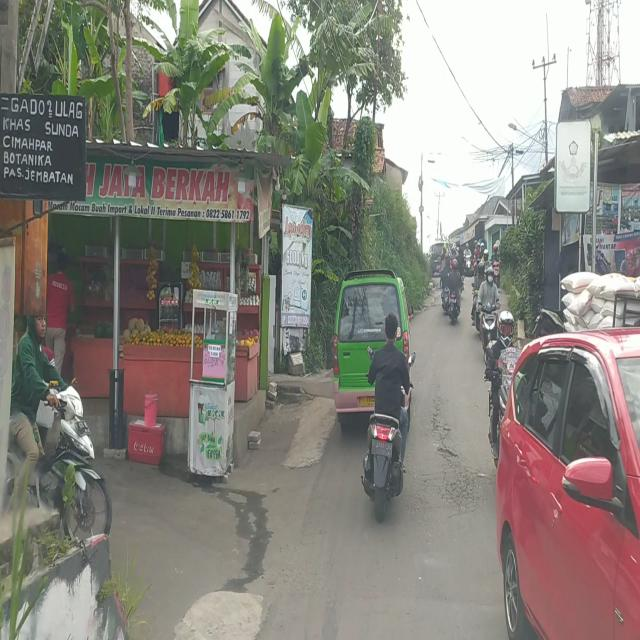Drain Hole: (434, 389, 491, 514)
